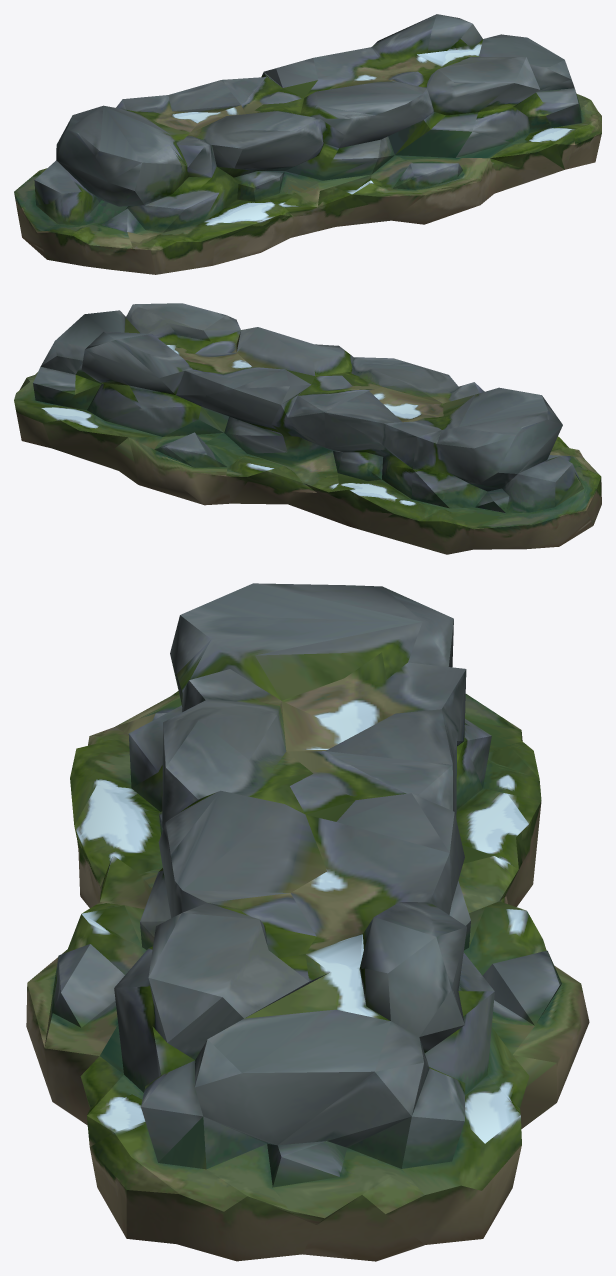
3 views of the same model, one above another, from view 1: azimuth 30°, elevation 25°; view 2: azimuth 150°, elevation 25°; view 3: azimuth 270°, elevation 25° (orthographic). The views are drawn at different scales.
Visible parts, largest first — view 1: river_rocks; view 2: river_rocks; view 3: river_rocks.
Boxes of the visible parts, bbox=[...] form: river_rocks: bbox=[14, 14, 601, 274]; river_rocks: bbox=[14, 303, 601, 554]; river_rocks: bbox=[26, 583, 589, 1261].
Size of the model in its own units: 0.9746 by 0.1928 by 0.4361.
1 material, 1 textured.
